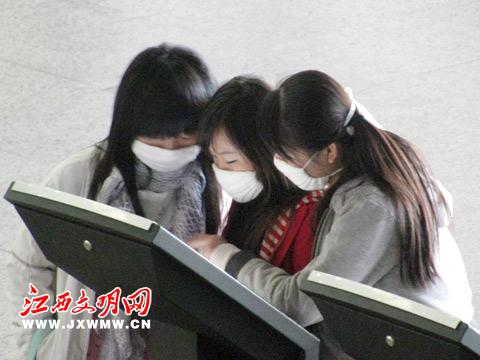yes_mask: (111, 38, 204, 177), (272, 68, 369, 191), (206, 66, 269, 206)
